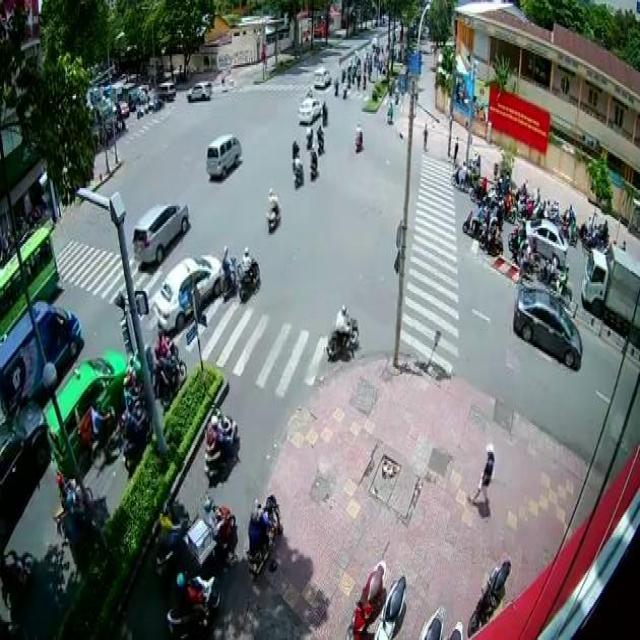bus: (0, 226, 58, 340)
car: (45, 347, 127, 472), (152, 253, 224, 331), (512, 289, 582, 369), (130, 201, 188, 260), (525, 217, 568, 266), (299, 96, 320, 125)
motorcycle: (203, 412, 240, 483), (325, 302, 360, 362), (237, 244, 260, 300), (266, 184, 280, 233), (292, 148, 304, 190), (308, 139, 317, 177), (316, 121, 325, 156), (354, 119, 362, 152)
truck: (0, 300, 80, 415), (204, 134, 242, 179)
